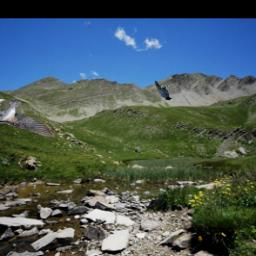Crow: (155, 81, 174, 101)
Swallow: (0, 100, 55, 138)
